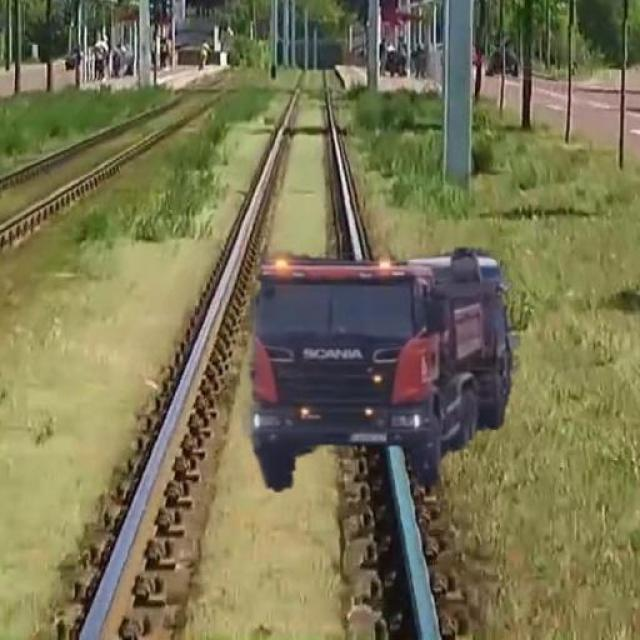vehicle: (246, 241, 514, 496)
